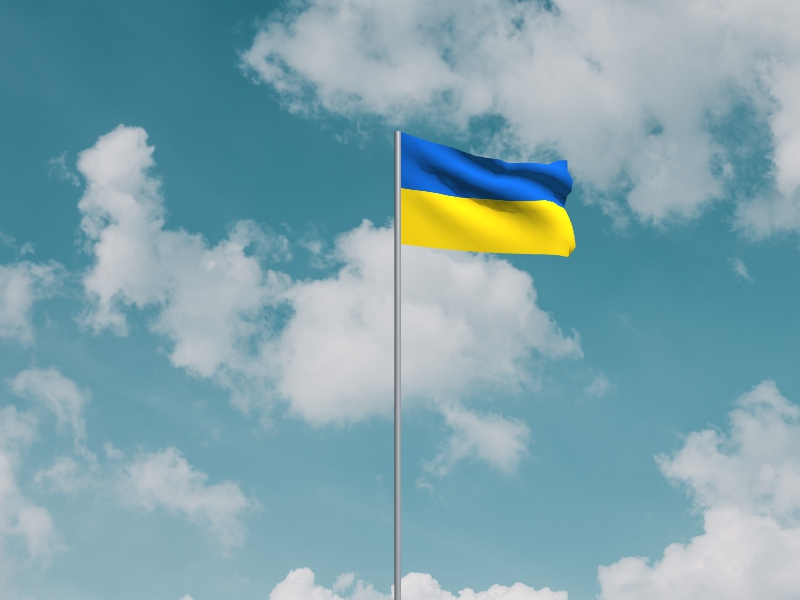ua: (401, 132, 578, 258)
